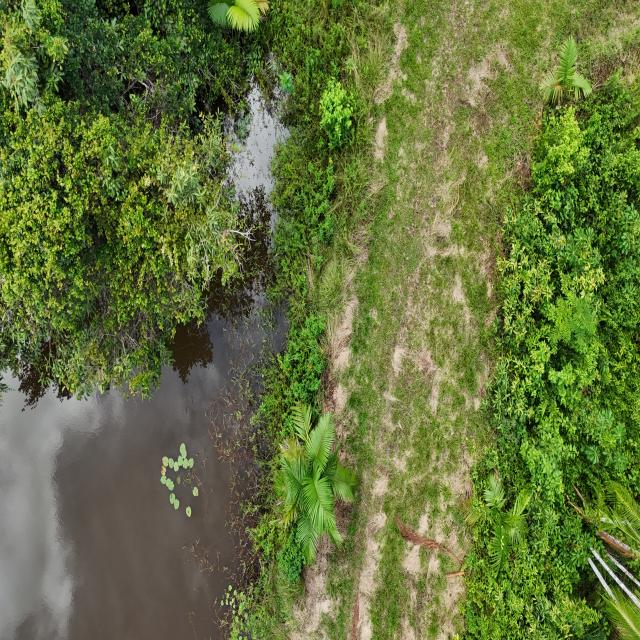vegetation: (457, 37, 639, 638)
